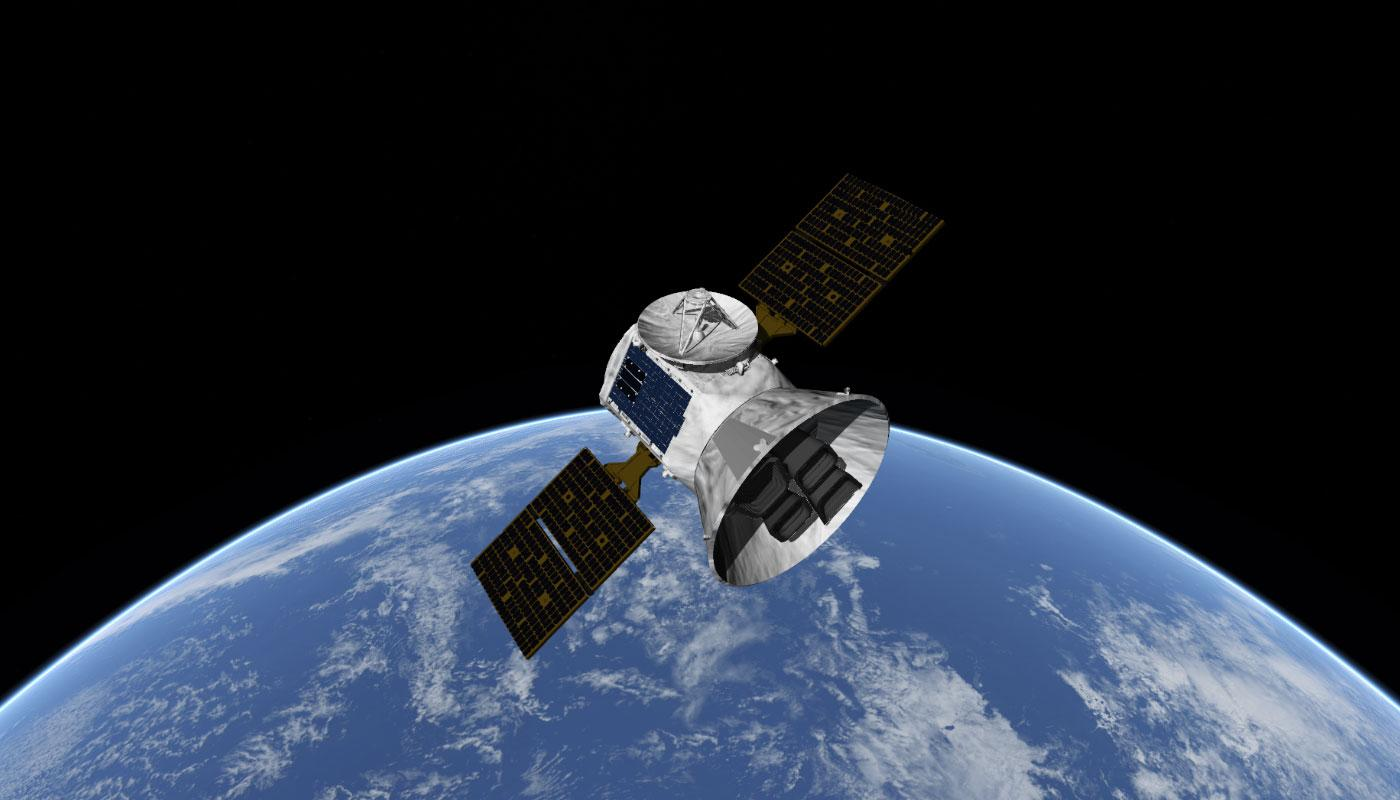antenna: (636, 281, 763, 371)
solar: (469, 444, 658, 664), (735, 171, 947, 348)
thruster: (735, 455, 786, 518), (809, 470, 864, 527), (785, 439, 838, 490), (765, 489, 815, 543)
